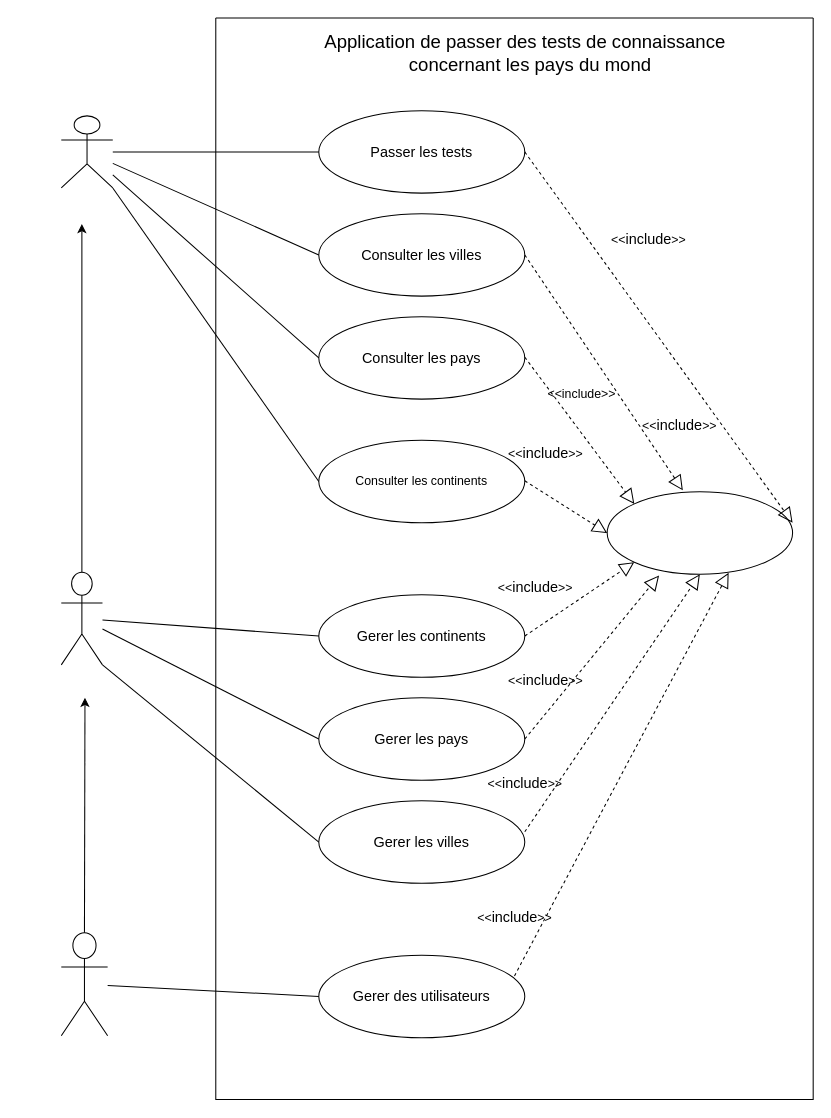
Some shapes in this 831 by 1118 pixel diagram are drawn without their labels. The centre of each missing label's shape, as x and y in pixels:
"Administrateur" belongs at [81,618].
"Se connecter" belongs at [699,532].
"Super administrateur" belongs at [84,984].
"Utilisateur" belongs at [86,151].
